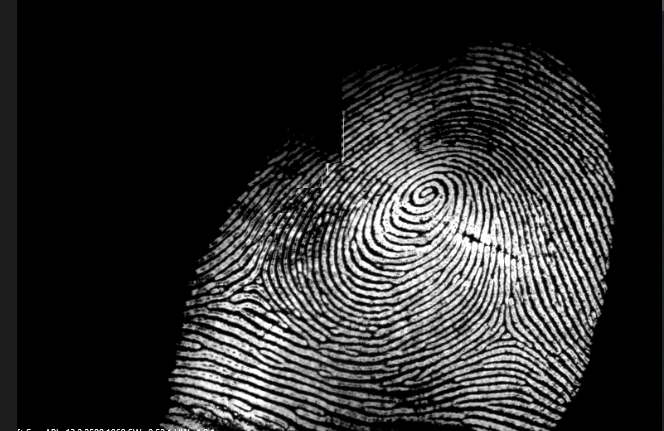deltas: (476, 290, 546, 364), (226, 249, 286, 319)
nucleo: (392, 164, 452, 232)
